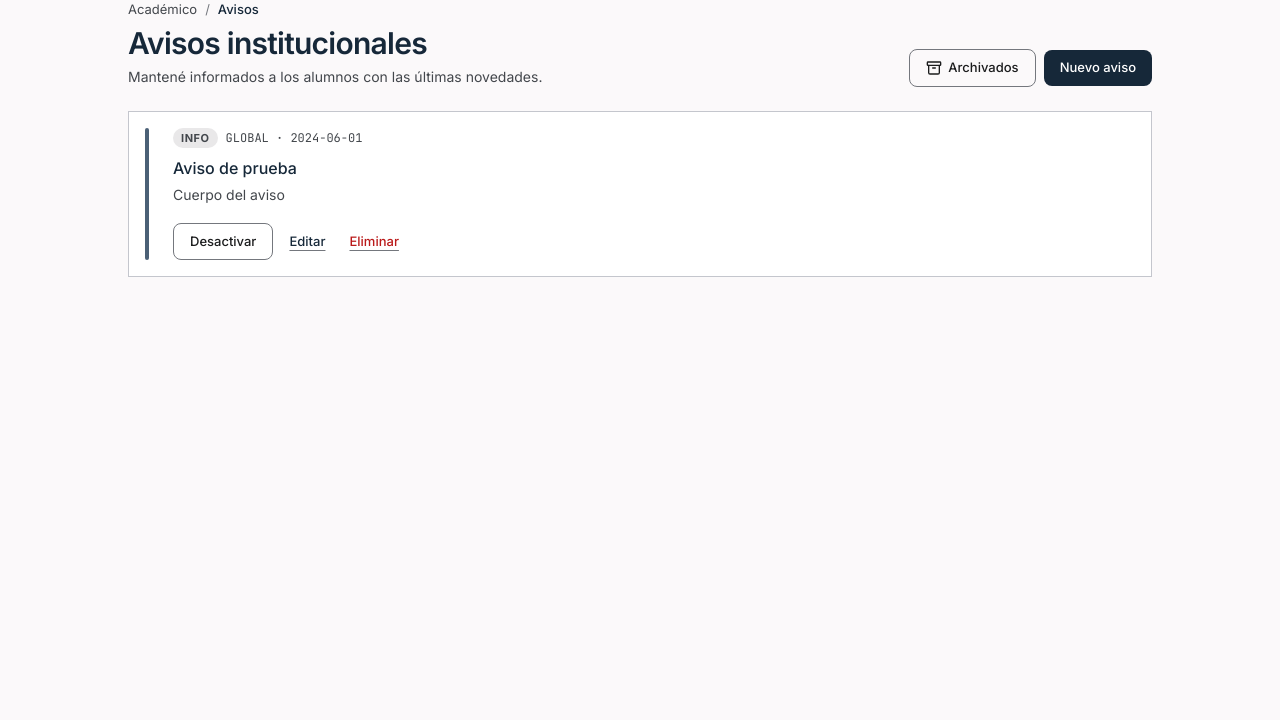
Test case: AvisosPage › abre modal de nuevo aviso al hacer clic
Expected: the heading "Aviso de prueba" is shown, [173,158,297,178]
Step 1. Click the button "Nuevo aviso" → (1098, 68), box [1044,50,1152,86]
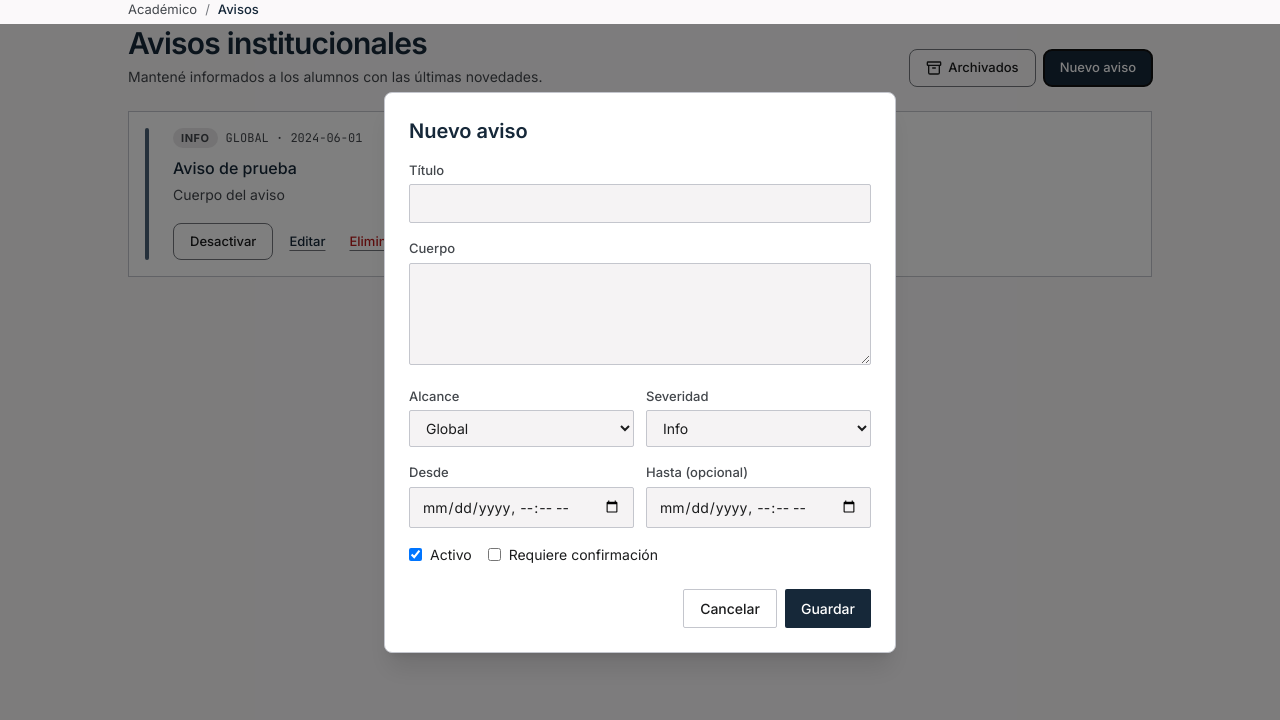
Now the heading "Nuevo aviso" is shown, box [409,118,528,142]
Now the field labelled "Título" is shown, box [409,184,871,223]
